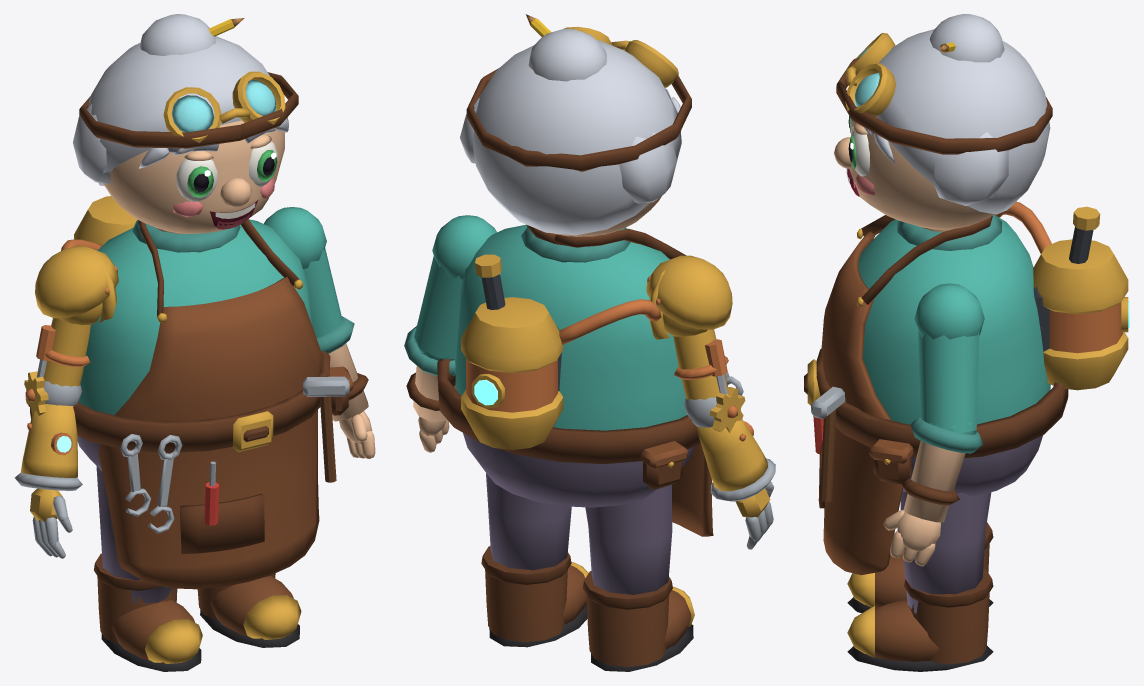
File: npc_odda.glb
3 renders of one model, left to right at view 1: azimuth 30°, elevation 25°; view 2: azimuth 150°, elevation 25°; view 3: azimuth 270°, elevation 25°, orthographic. The views are drawn at different scales.
Visible parts, largest first — view 1: Body, Head, ArmR, ArmL; view 2: Body, Head, ArmR, ArmL; view 3: Body, Head, ArmL.
Boxes of the visible parts, x1,y1,x2,y2 form: Body: [26, 196, 353, 671]; Head: [73, 14, 298, 233]; ArmR: [14, 246, 118, 558]; ArmL: [264, 207, 375, 458]; Body: [437, 224, 743, 671]; Head: [460, 14, 691, 236]; ArmR: [646, 255, 775, 549]; ArmL: [404, 215, 497, 452]; Body: [804, 201, 1129, 671]; Head: [834, 14, 1052, 229]; ArmL: [883, 283, 984, 566].
Size of the model in its own units: 0.9544 by 1.59 by 0.759.
